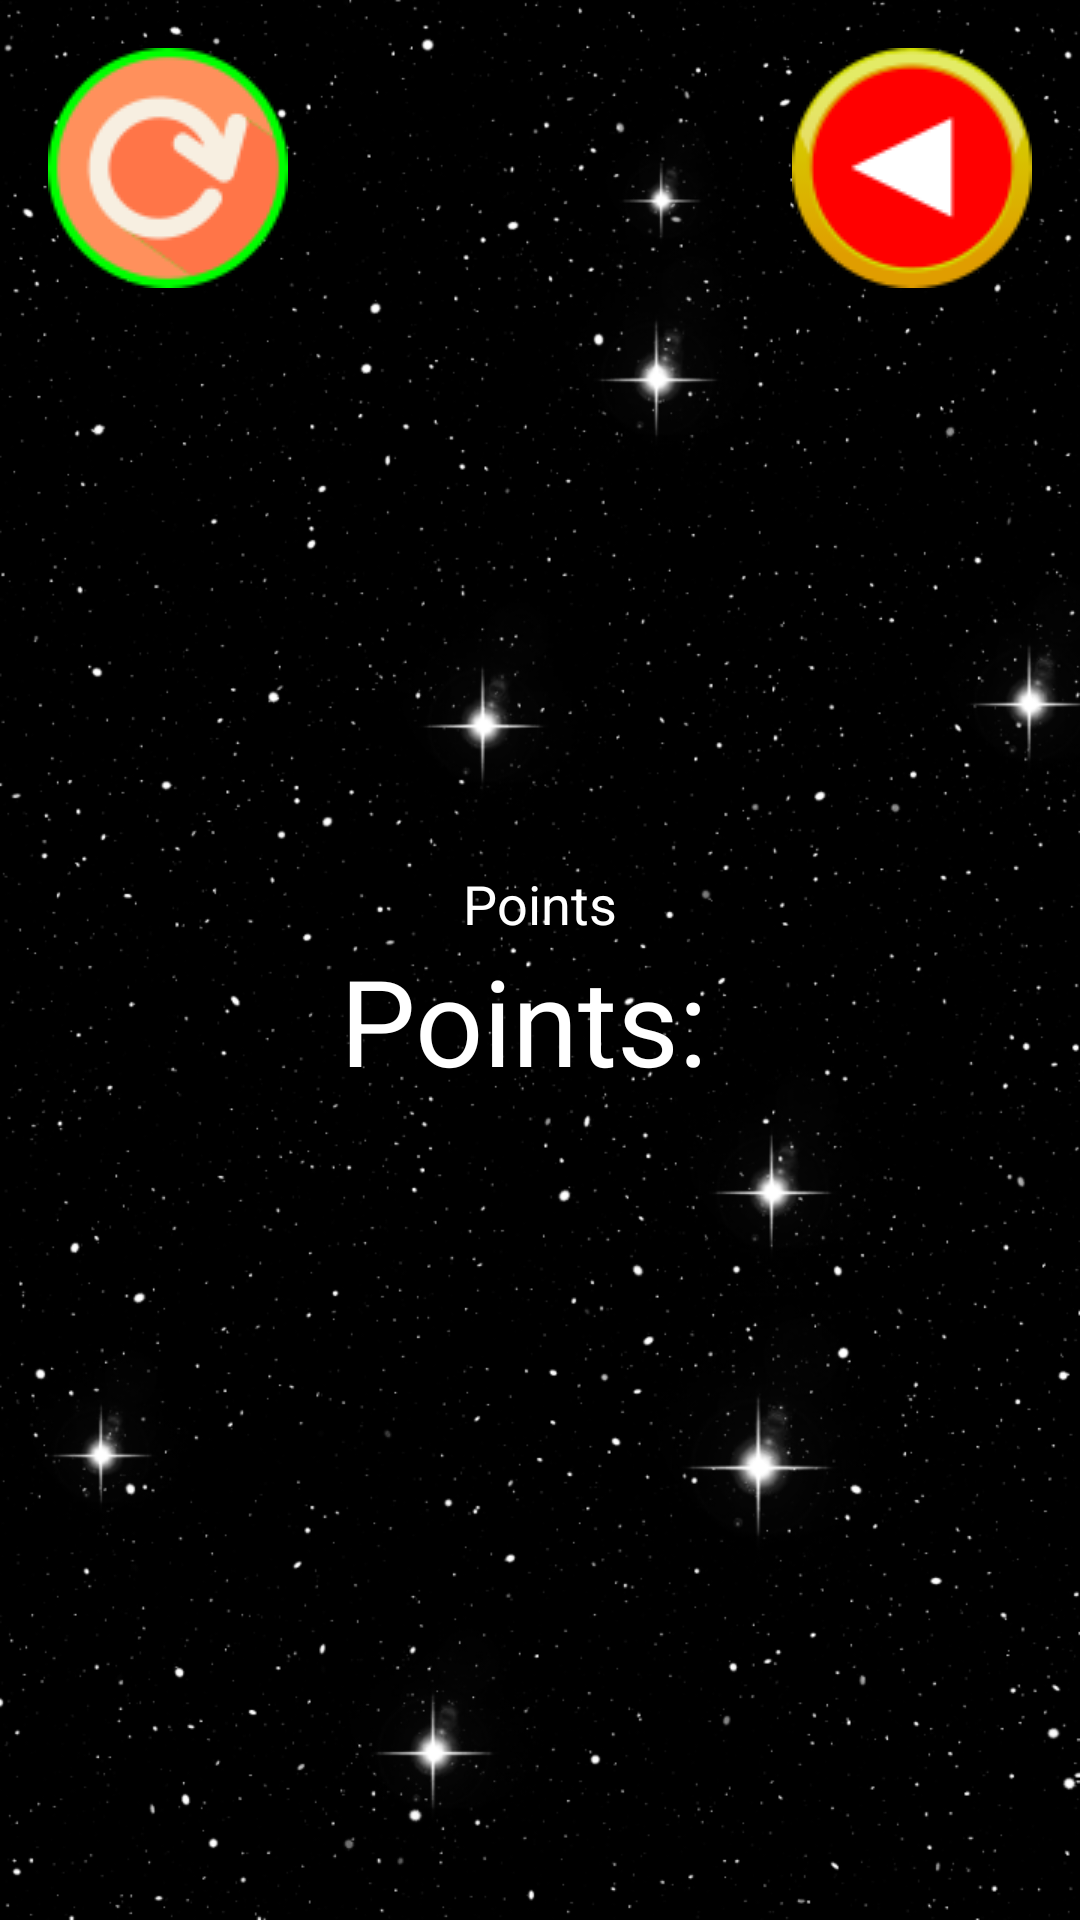

Where to tap for icons on this 1080w x 1920h app screen, as (x=x, y=y):
exit: (x=912, y=168)
restart: (x=168, y=168)
